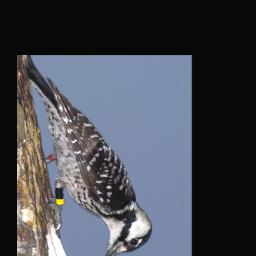Woodpecker: (24, 56, 154, 256)
